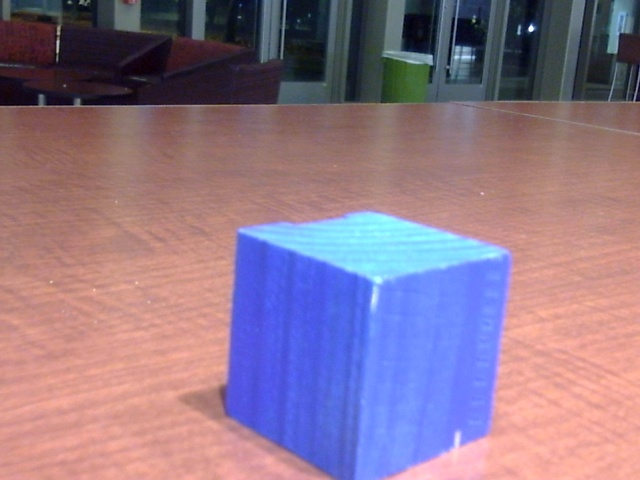BlueBlock: (229, 212, 512, 480)
